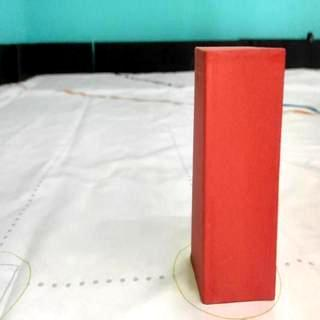redbox: (191, 46, 286, 306)
